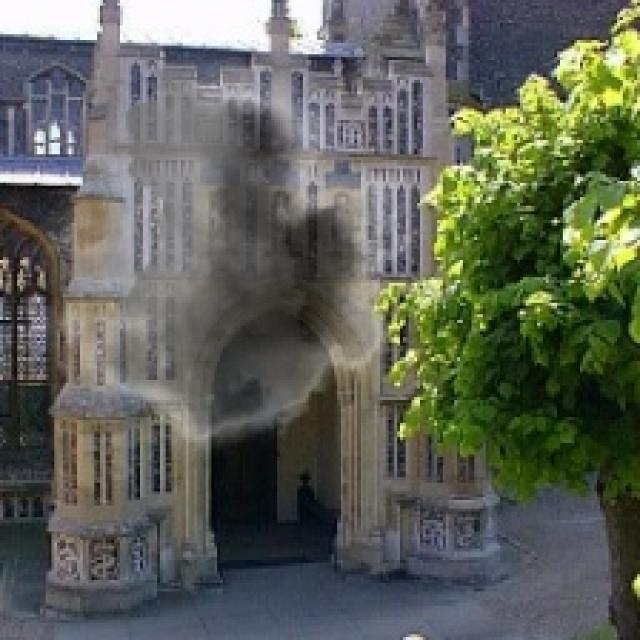smoke: (12, 60, 434, 471)
